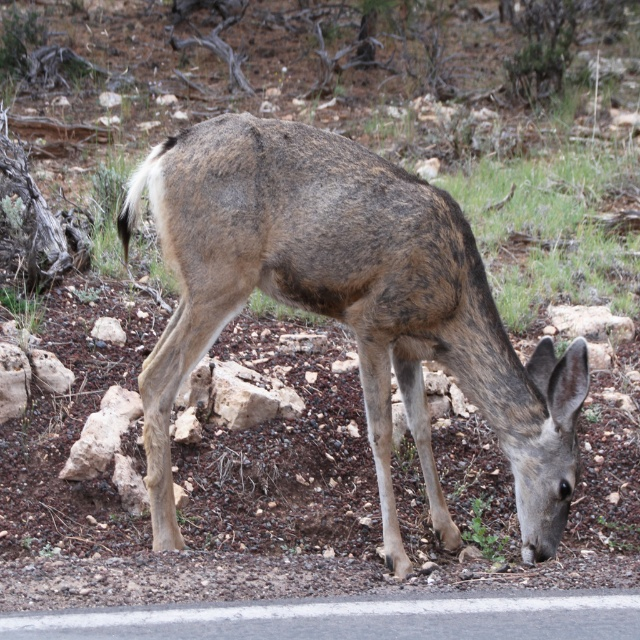Deer: (114, 115, 589, 567)
